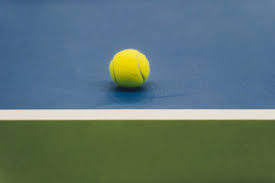tennis_ball: (108, 47, 152, 91)
